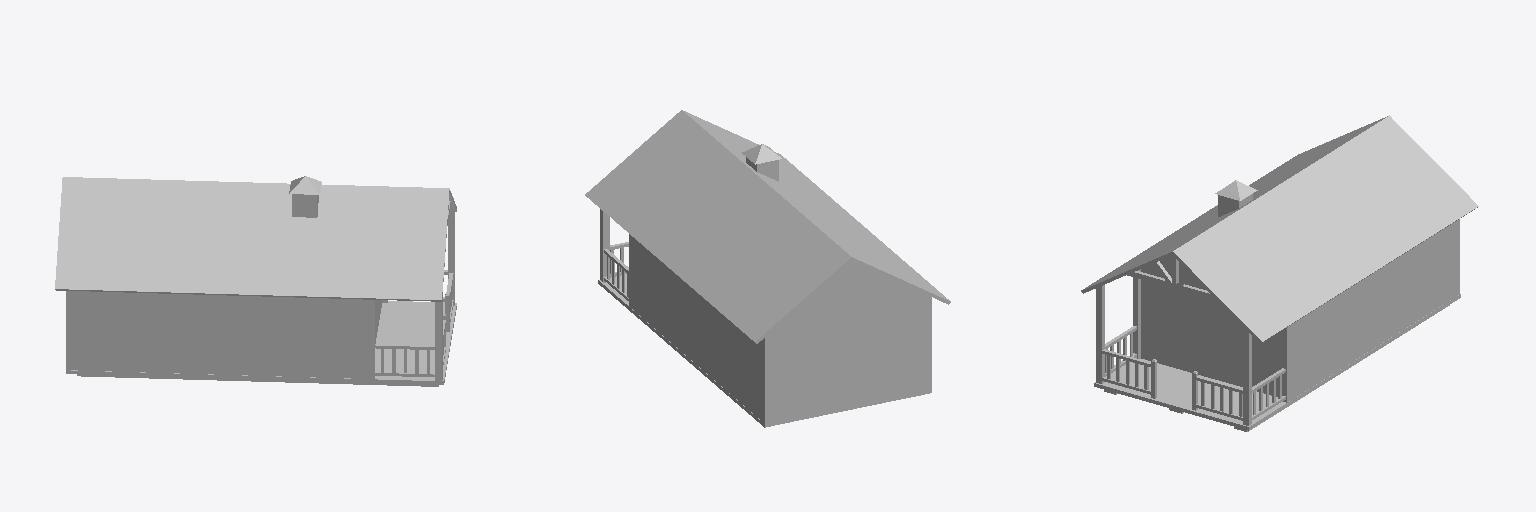
The model's file is home.obj.
3 views of the same model, side by side, from view 1: azimuth 30°, elevation 25°; view 2: azimuth 150°, elevation 25°; view 3: azimuth 270°, elevation 25° (orthographic).
Parts seen in each view (by area): view 1: Snow_covered_CottageOBJ; view 2: Snow_covered_CottageOBJ; view 3: Snow_covered_CottageOBJ.
Boxes of the visible parts, x1,y1,x2,y2 form: Snow_covered_CottageOBJ: [55, 176, 456, 386]; Snow_covered_CottageOBJ: [585, 110, 950, 427]; Snow_covered_CottageOBJ: [1081, 115, 1478, 431].
Bounding box in the file's own units: 133 × 59.31 × 120.